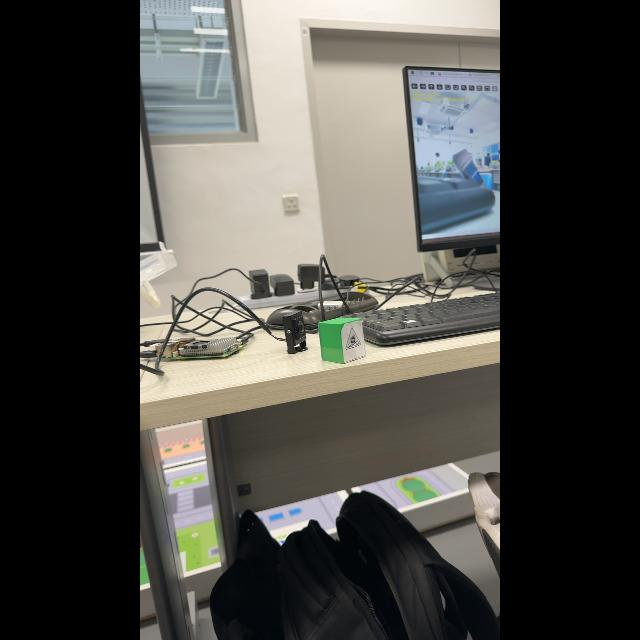Tsunami: (345, 329, 361, 349)
